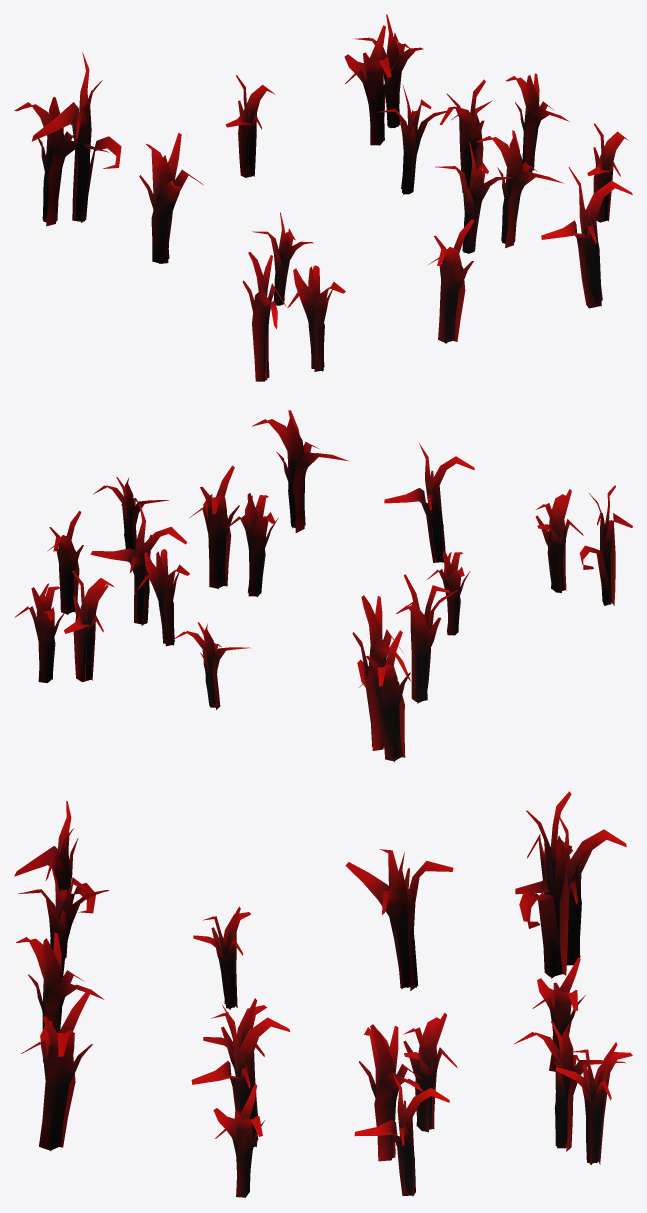
File: SM_Corn_1.fbx
3 renders of one model, top to bottom at view 1: azimuth 30°, elevation 25°; view 2: azimuth 150°, elevation 25°; view 3: azimuth 270°, elevation 25°, orthographic. The views are drawn at different scales.
Visible parts, largest first — view 1: SM_Corn_1; view 2: SM_Corn_1; view 3: SM_Corn_1.
Part boxes in pixels (x1,y1,x2,y2): SM_Corn_1: [14, 14, 632, 381]; SM_Corn_1: [14, 410, 632, 762]; SM_Corn_1: [14, 791, 632, 1197].
Bounding box in the file's own units: 1.16 × 0.3938 × 1.15.
